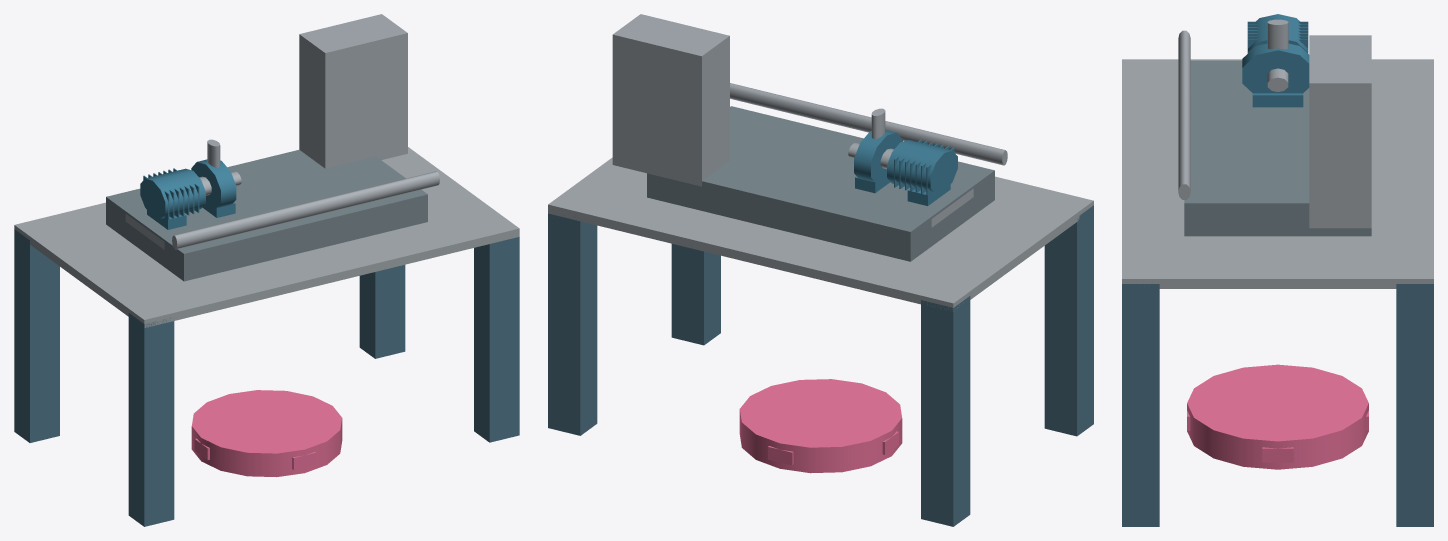
3 renders of one model, left to right at view 1: azimuth 30°, elevation 25°; view 2: azimuth 150°, elevation 25°; view 3: azimuth 270°, elevation 25°, orthographic. The views are drawn at different scales.
Visible parts, largest first — view 1: g4001, g0003, g0001, visualRotor, g1, g3001, g0, g0002, g2, g3, g5; view 2: g4001, g0003, g0001, visualRotor, g0, g2, g1, g3001, g0002, g3, g5; view 3: g4001, g0003, visualRotor, g0001, g2, g3001, g5, g0002, g3, g2001, g7, g6.
Boxes of the visible parts, x1=… form: g4001: x1=14, y1=147, x2=519, y2=327; g0003: x1=106, y1=149, x2=427, y2=281; g0001: x1=299, y1=14, x2=407, y2=168; visualRotor: x1=191, y1=390, x2=342, y2=477; g1: x1=128, y1=313, x2=174, y2=526; g3001: x1=474, y1=237, x2=519, y2=442; g0: x1=14, y1=229, x2=59, y2=442; g0002: x1=172, y1=171, x2=439, y2=249; g2: x1=359, y1=265, x2=405, y2=358; g3: x1=140, y1=168, x2=205, y2=218; g5: x1=191, y1=159, x2=236, y2=209; g4001: x1=548, y1=157, x2=1093, y2=311; g0003: x1=647, y1=106, x2=994, y2=261; g0001: x1=612, y1=14, x2=729, y2=186; visualRotor: x1=739, y1=379, x2=902, y2=473; g0: x1=921, y1=296, x2=970, y2=526; g2: x1=548, y1=213, x2=597, y2=435; g1: x1=1044, y1=205, x2=1093, y2=436; g3001: x1=671, y1=244, x2=720, y2=345; g0002: x1=730, y1=83, x2=1007, y2=165; g3: x1=887, y1=140, x2=957, y2=193; g5: x1=854, y1=130, x2=902, y2=183; g4001: x1=1122, y1=59, x2=1433, y2=288; g0003: x1=1184, y1=60, x2=1371, y2=236; visualRotor: x1=1187, y1=364, x2=1368, y2=469; g0001: x1=1309, y1=35, x2=1371, y2=228; g2: x1=1396, y1=284, x2=1433, y2=526; g3001: x1=1122, y1=284, x2=1159, y2=526; g5: x1=1242, y1=43, x2=1309, y2=93; g0002: x1=1178, y1=30, x2=1190, y2=199; g3: x1=1248, y1=14, x2=1307, y2=52; g2001: x1=1252, y1=93, x2=1303, y2=107; g7: x1=1267, y1=19, x2=1288, y2=49; g6: x1=1267, y1=68, x2=1288, y2=91.
Size of the model in its own units: 2 by 1.86 by 1.2.
